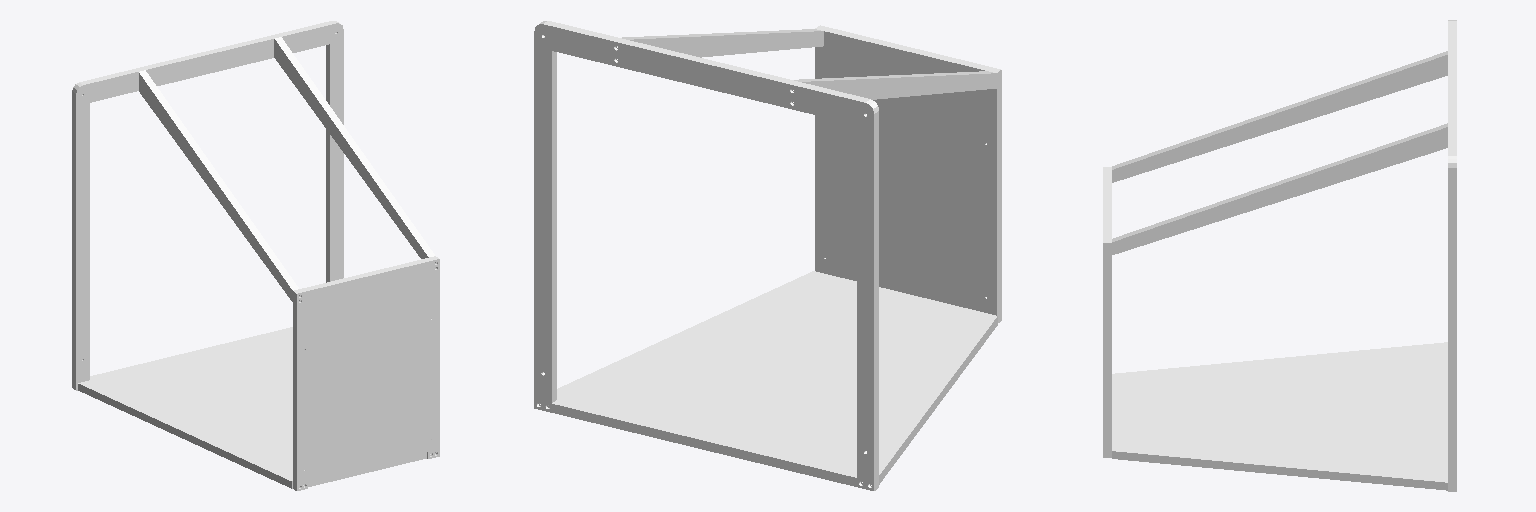
The robot description file, URDF, robot "dock":
<?xml version="1.0" encoding="utf-8"?>
<!-- This URDF was automatically created by SolidWorks to URDF Exporter! Originally created by Stephen Brawner (brawner@gmail.com) 
     Commit Version: 1.6.0-4-g7f85cfe  Build Version: 1.6.7995.38578
     For more information, please see http://wiki.ros.org/sw_urdf_exporter -->
<robot
  name="dock">
  <link
    name="base_link">
    <inertial>
      <origin
        xyz="-0.083172 -0.22007 0.32226"
        rpy="0 0 0" />
      <mass
        value="7.302" />
      <inertia
        ixx="0.19422"
        ixy="-5.8066E-17"
        ixz="3.1105E-17"
        iyy="0.26943"
        iyz="0.0057054"
        izz="0.19708" />
    </inertial>
    <visual>
      <origin
        xyz="0 0 0"
        rpy="0 0 0" />
      <geometry>
        <mesh
          filename="package://collector/meshes/dock.stl" />
      </geometry>
      <material
        name="">
        <color
          rgba="1 1 1 1" />
      </material>
    </visual>
    <collision>
      <origin
        xyz="0 0 0"
        rpy="0 0 0" />
      <geometry>
        <mesh
          filename="package://collector/meshes/dock.stl" />
      </geometry>
    </collision>
  </link>
</robot>

--- What the picture shows (computed from the rendered views, not written in the file) ---
3 views of the same robot in one strip: view 1: azimuth 30°, elevation 25°; view 2: azimuth 150°, elevation 25°; view 3: azimuth 270°, elevation 25° (orthographic).
Model dock with 1 links and 0 joints (none), rooted at base_link, posed all joints at 0.
Links seen in each view (by area): view 1: base_link; view 2: base_link; view 3: base_link.
Boxes of the visible links, x1=… form: base_link: x1=72, y1=21, x2=439, y2=490; base_link: x1=534, y1=21, x2=1001, y2=490; base_link: x1=1103, y1=20, x2=1456, y2=491.
Size in the robot's own frame: 0.58 by 0.61 by 0.63 metres.
1 mesh visuals loaded from 1 distinct referenced files (1 binary STL).
